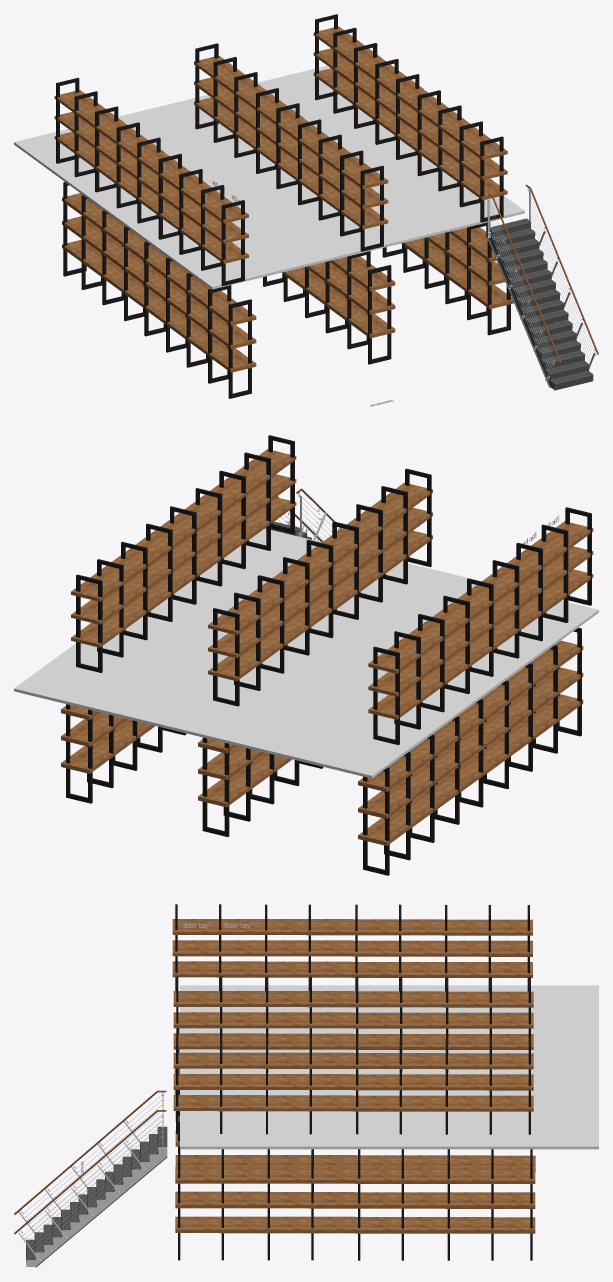
Rendered from das 111.glb.
3 renders of one model, top to bottom at view 1: azimuth 30°, elevation 25°; view 2: azimuth 150°, elevation 25°; view 3: azimuth 270°, elevation 25°, orthographic. The views are drawn at different scales.
Visible parts, largest first — view 1: _C-Component#4 (Loose Mesh), C-Steel Stair, _C-Component#3 (Loose Mesh), C-Stair Stringer, G-Object.124, G-Object.024, G-Object.066, G-Object.123, G-Object.122, G-Object.220, G-Object.106, G-Object.302 (+24 smaller); view 2: _C-Component#4 (Loose Mesh), G-Object.097, G-Object.107, G-Object.025, G-Object.015, G-Object.057, G-Object.067, G-Object.206, G-Object.248, G-Object.288, G-Object.205, G-Object.287 (+50 smaller); view 3: _C-Component#4 (Loose Mesh), C-Steel Stair, _C-Component#3 (Loose Mesh), C-Stair Stringer.001, G-Object.040, G-Object.004, G-Object.039, G-Object.008, G-Object.001, G-Object.007, G-Object.223, G-Object.213 (+96 smaller).
Part boxes in pixels (left/top/right/bottom): _C-Component#4 (Loose Mesh): left=14, top=66, right=524, bottom=289; C-Steel Stair: left=489, top=218, right=593, bottom=390; _C-Component#3 (Loose Mesh): left=488, top=184, right=598, bottom=372; C-Stair Stringer: left=487, top=230, right=554, bottom=389; G-Object.124: left=209, top=325, right=256, bottom=349; G-Object.024: left=467, top=284, right=513, bottom=309; G-Object.066: left=209, top=348, right=256, bottom=372; G-Object.123: left=348, top=266, right=395, bottom=291; G-Object.122: left=348, top=290, right=395, bottom=314; G-Object.220: left=460, top=157, right=507, bottom=180; G-Object.106: left=348, top=314, right=395, bottom=338; G-Object.302: left=341, top=186, right=388, bottom=209; _C-Component#4 (Loose Mesh): left=14, top=528, right=598, bottom=778; G-Object.097: left=198, top=779, right=251, bottom=807; G-Object.107: left=198, top=752, right=251, bottom=780; G-Object.025: left=61, top=719, right=113, bottom=746; G-Object.015: left=61, top=746, right=113, bottom=773; G-Object.057: left=358, top=818, right=411, bottom=845; G-Object.067: left=358, top=791, right=411, bottom=818; G-Object.206: left=71, top=573, right=124, bottom=601; G-Object.248: left=368, top=645, right=421, bottom=673; G-Object.288: left=208, top=606, right=261, bottom=635; G-Object.205: left=71, top=598, right=124, bottom=624; G-Object.287: left=208, top=631, right=261, bottom=658; _C-Component#4 (Loose Mesh): left=180, top=985, right=598, bottom=1149; C-Steel Stair: left=26, top=1126, right=167, bottom=1266; _C-Component#3 (Loose Mesh): left=14, top=1090, right=166, bottom=1255; C-Stair Stringer.001: left=26, top=1147, right=167, bottom=1267; G-Object.040: left=175, top=1191, right=221, bottom=1208; G-Object.004: left=265, top=1216, right=311, bottom=1233; G-Object.039: left=309, top=1216, right=355, bottom=1233; G-Object.008: left=219, top=1191, right=265, bottom=1208; G-Object.001: left=309, top=1167, right=355, bottom=1183; G-Object.007: left=219, top=1216, right=265, bottom=1233; G-Object.223: left=306, top=919, right=352, bottom=935; G-Object.213: left=397, top=1074, right=443, bottom=1090.
Size of the model in its own units: 1.24 by 0.7484 by 1.91.
8 materials, 6 textured.
